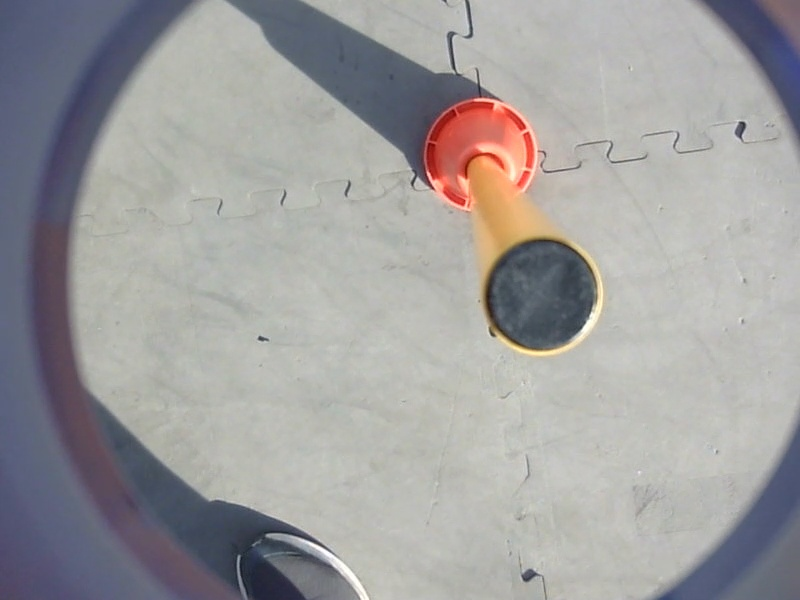tip: (479, 230, 609, 361)
